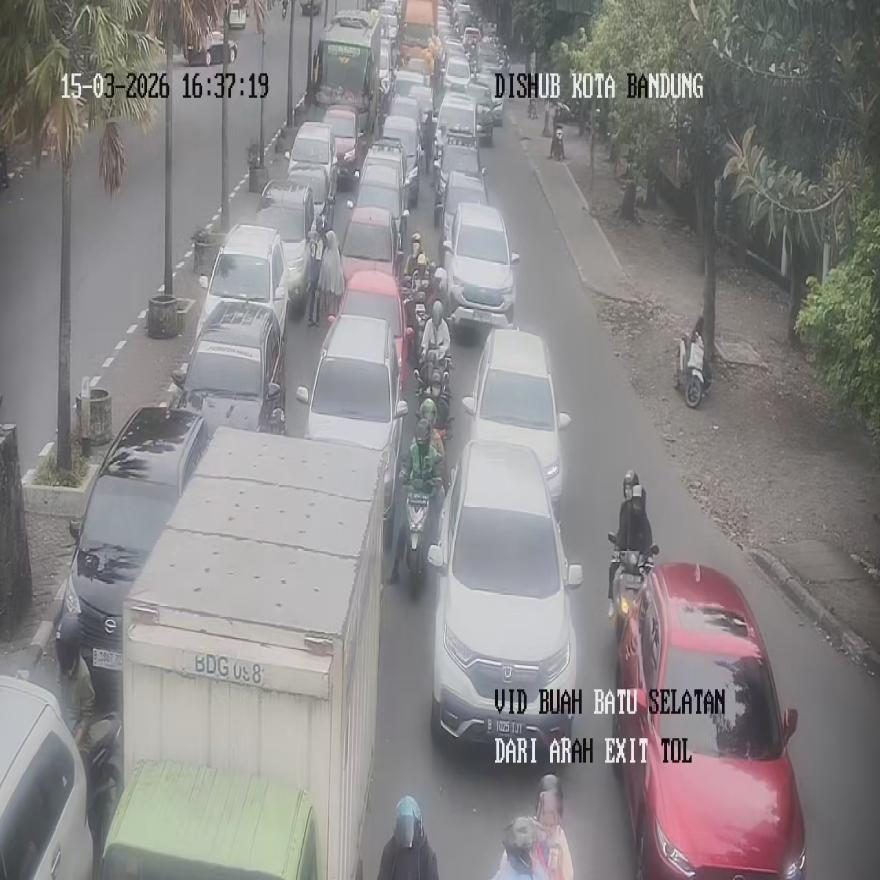Mobil: (611, 562, 807, 878), (428, 440, 582, 759), (58, 405, 208, 705), (296, 314, 407, 543), (462, 328, 572, 504), (0, 672, 93, 878), (168, 298, 285, 435), (196, 222, 289, 348), (443, 203, 519, 330), (285, 121, 337, 230)
Motor: (84, 716, 122, 873), (608, 533, 658, 645), (403, 474, 442, 592), (415, 352, 452, 429), (674, 334, 709, 407), (548, 122, 564, 160)
Truk ringan: (99, 758, 321, 880)
